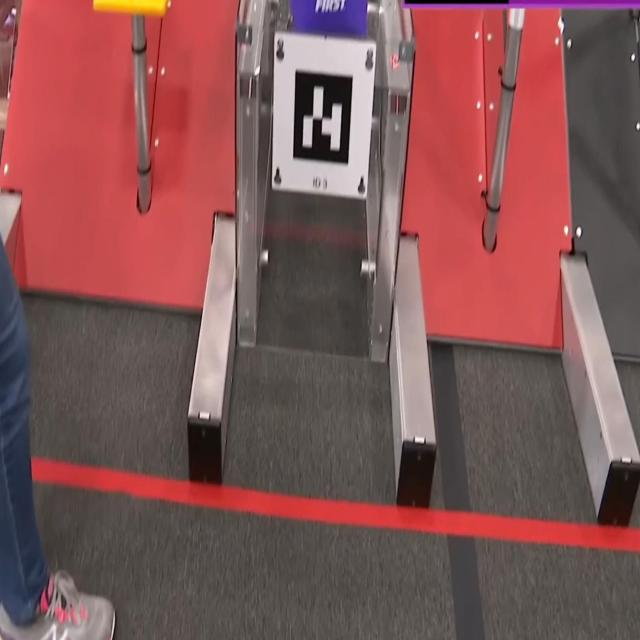frc_cone: (89, 0, 175, 18)
frc_cube: (288, 0, 370, 40)
